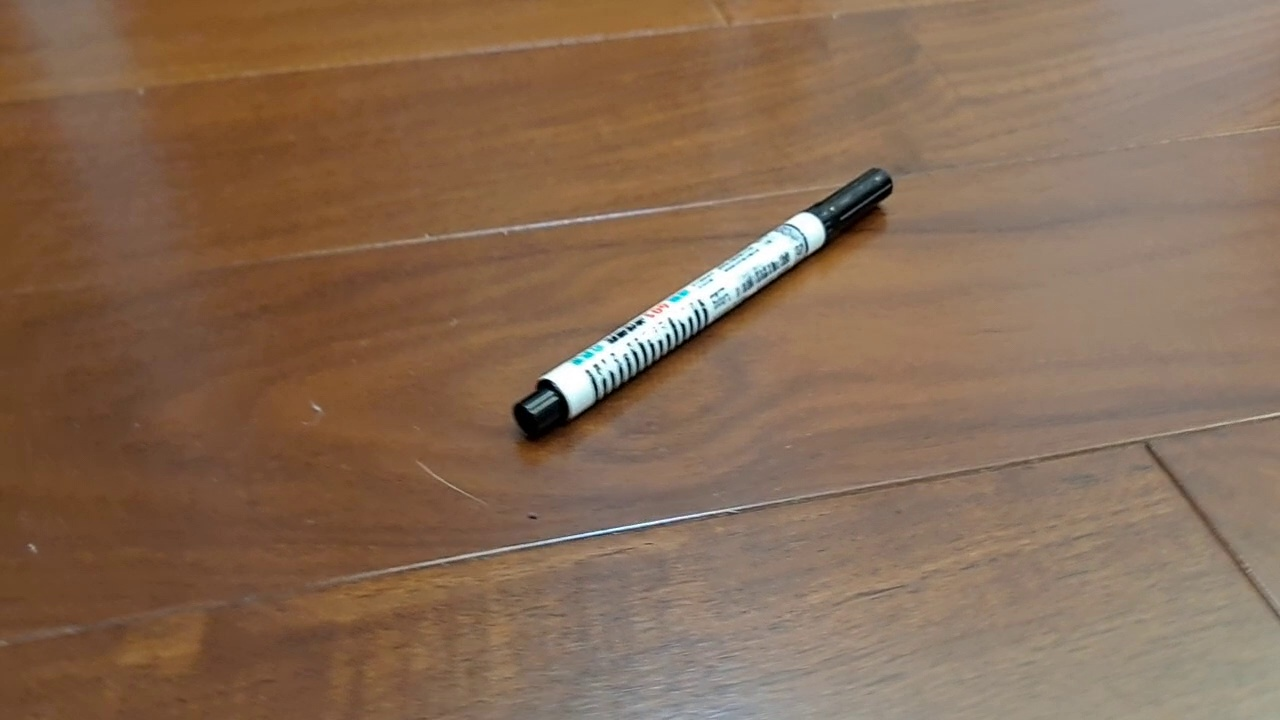pen: (510, 167, 893, 443)
